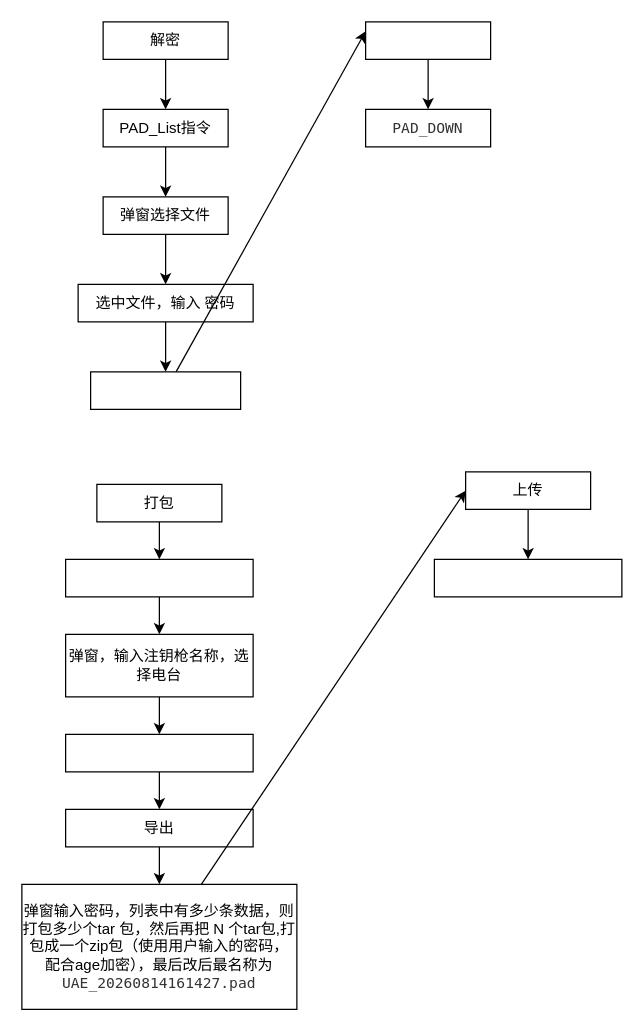
The diagram is 644 pixels wide and 1031 high, and some of its shapes have lost their labels. Each missing label, with the box of its shape:
PAD_DECRYPT指令: (89, 371, 241, 409)
下载: (364, 21, 491, 59)
勾选radio_subnet: (64, 558, 253, 597)
发送pad_upload: (433, 558, 622, 597)
跳转到注钥枪管理: (64, 733, 253, 772)
